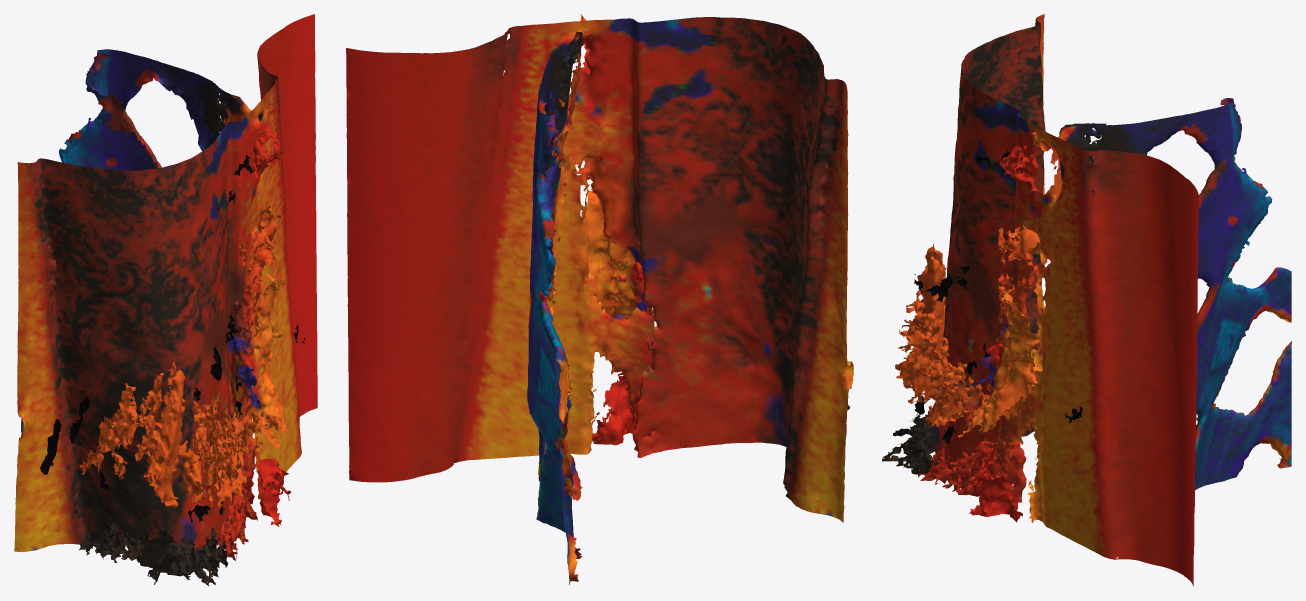
File: rideau.glb
3 views of the same model, side by side, from view 1: azimuth 30°, elevation 25°; view 2: azimuth 150°, elevation 25°; view 3: azimuth 270°, elevation 25° (orthographic). The views are drawn at different scales.
Visible parts, largest first — view 1: Model; view 2: Model; view 3: Model.
Boxes of the visible parts, x1,y1,x2,y2 form: Model: [14, 14, 317, 586]; Model: [346, 14, 853, 584]; Model: [882, 14, 1291, 586].
Size of the model in its own units: 2.75 by 2.75 by 2.61.
Materials: 1 (1 with a texture image).
